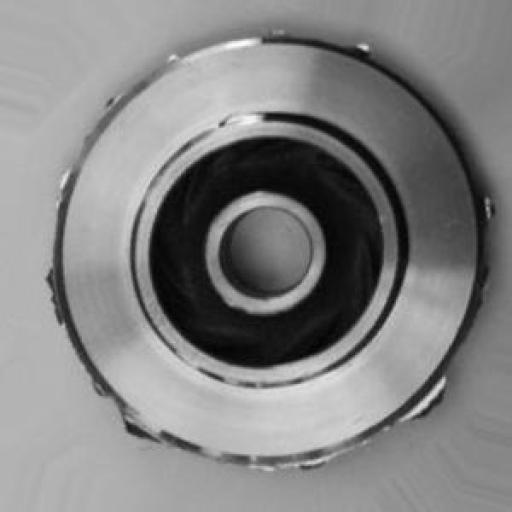defect: (32, 18, 499, 493)
